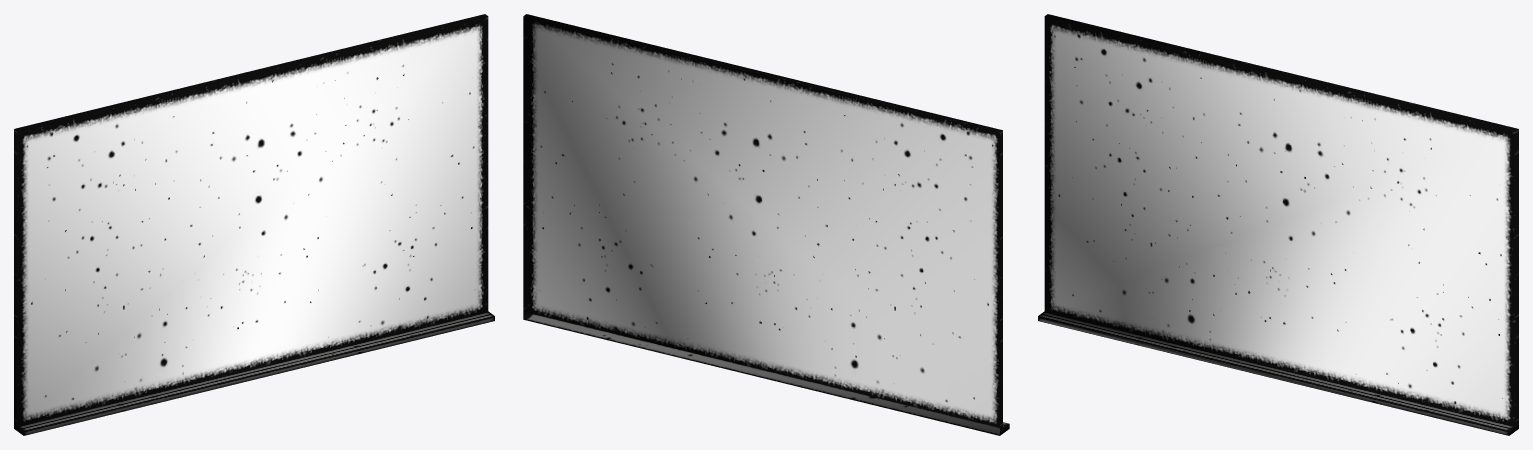
The model's file is board.obj.
3 renders of one model, left to right at view 1: azimuth 30°, elevation 25°; view 2: azimuth 150°, elevation 25°; view 3: azimuth 330°, elevation 25°, orthographic.
Parts seen in each view (by area): view 1: board; view 2: board; view 3: board.
Boxes of the visible parts, x1,y1,x2,y2 form: board: [14, 14, 494, 435]; board: [523, 14, 1009, 435]; board: [1038, 14, 1518, 435].
Bounding box in the file's own units: 10.01 × 6.09 × 0.3581.
